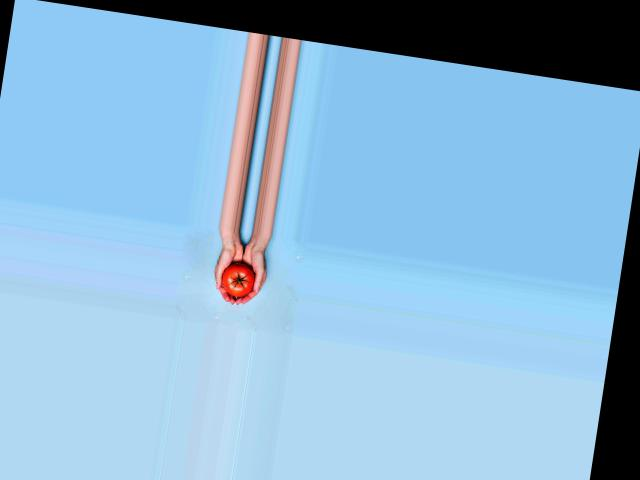tomato: (220, 260, 257, 298)
